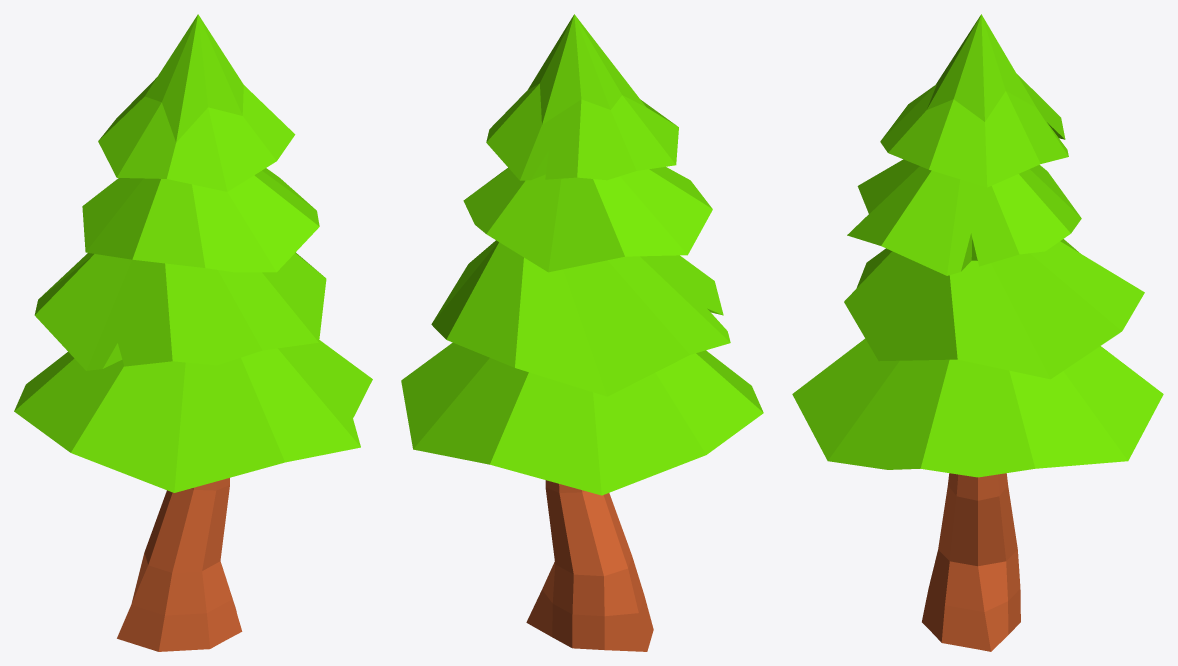
File: tree.fbx
The picture shows the model from 3 angles, left to right: view 1: azimuth 30°, elevation 25°; view 2: azimuth 150°, elevation 25°; view 3: azimuth 270°, elevation 25°; orthographic projection.
Visible parts, largest first — view 1: Tree; view 2: Tree; view 3: Tree.
Boxes of the visible parts, box(x1,y1,x2,y2) form: Tree: box(14, 14, 372, 651); Tree: box(401, 14, 763, 651); Tree: box(792, 14, 1163, 651).
Bounding box in the file's own units: 136 × 262 × 143.
